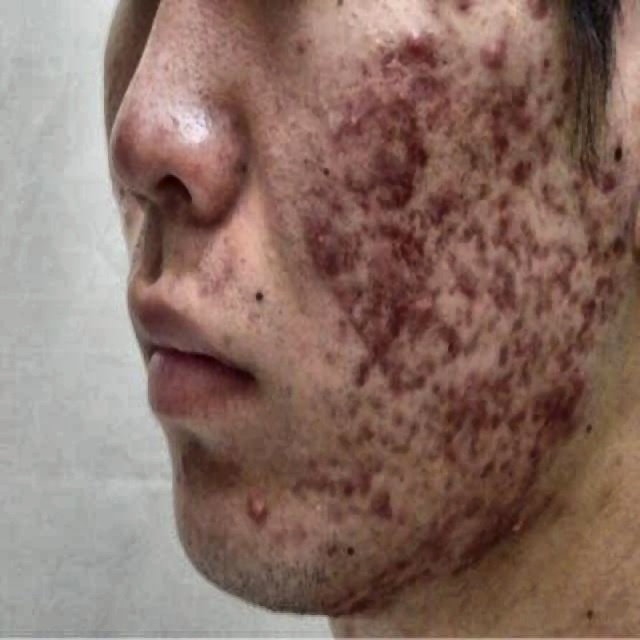nodule: (338, 334, 390, 406), (229, 488, 267, 545), (363, 476, 401, 528), (542, 366, 574, 424), (486, 188, 518, 246), (511, 148, 545, 202), (426, 499, 458, 547), (322, 584, 370, 616), (388, 197, 419, 243), (448, 352, 477, 401), (490, 324, 522, 368), (405, 131, 436, 175), (415, 66, 448, 106), (429, 170, 464, 207), (552, 247, 583, 288), (445, 266, 475, 306), (405, 257, 436, 295), (368, 48, 395, 91), (432, 316, 465, 351), (386, 82, 418, 118), (401, 12, 424, 61), (592, 161, 623, 197), (477, 41, 504, 81), (504, 497, 528, 542), (356, 216, 383, 254), (289, 468, 319, 502), (485, 120, 511, 159), (328, 279, 364, 307), (375, 113, 408, 143), (475, 445, 501, 483), (476, 90, 505, 124), (585, 240, 608, 282), (602, 229, 626, 268), (309, 452, 332, 492), (482, 368, 507, 404), (502, 399, 534, 427), (304, 222, 333, 252), (376, 166, 404, 197), (384, 547, 413, 576), (459, 209, 481, 247), (513, 80, 536, 116), (586, 208, 610, 242), (312, 249, 341, 277), (585, 293, 608, 327), (571, 323, 593, 358), (325, 186, 348, 218), (391, 291, 409, 331), (339, 106, 360, 140), (441, 406, 459, 445), (480, 408, 503, 438), (484, 272, 504, 306), (336, 461, 357, 492), (345, 306, 371, 330), (416, 288, 439, 314), (344, 166, 363, 197), (290, 520, 310, 549), (536, 46, 556, 74), (565, 164, 584, 192), (405, 368, 427, 392), (518, 434, 542, 456), (387, 404, 408, 429), (526, 0, 548, 21), (419, 356, 440, 377), (453, 0, 476, 18)
